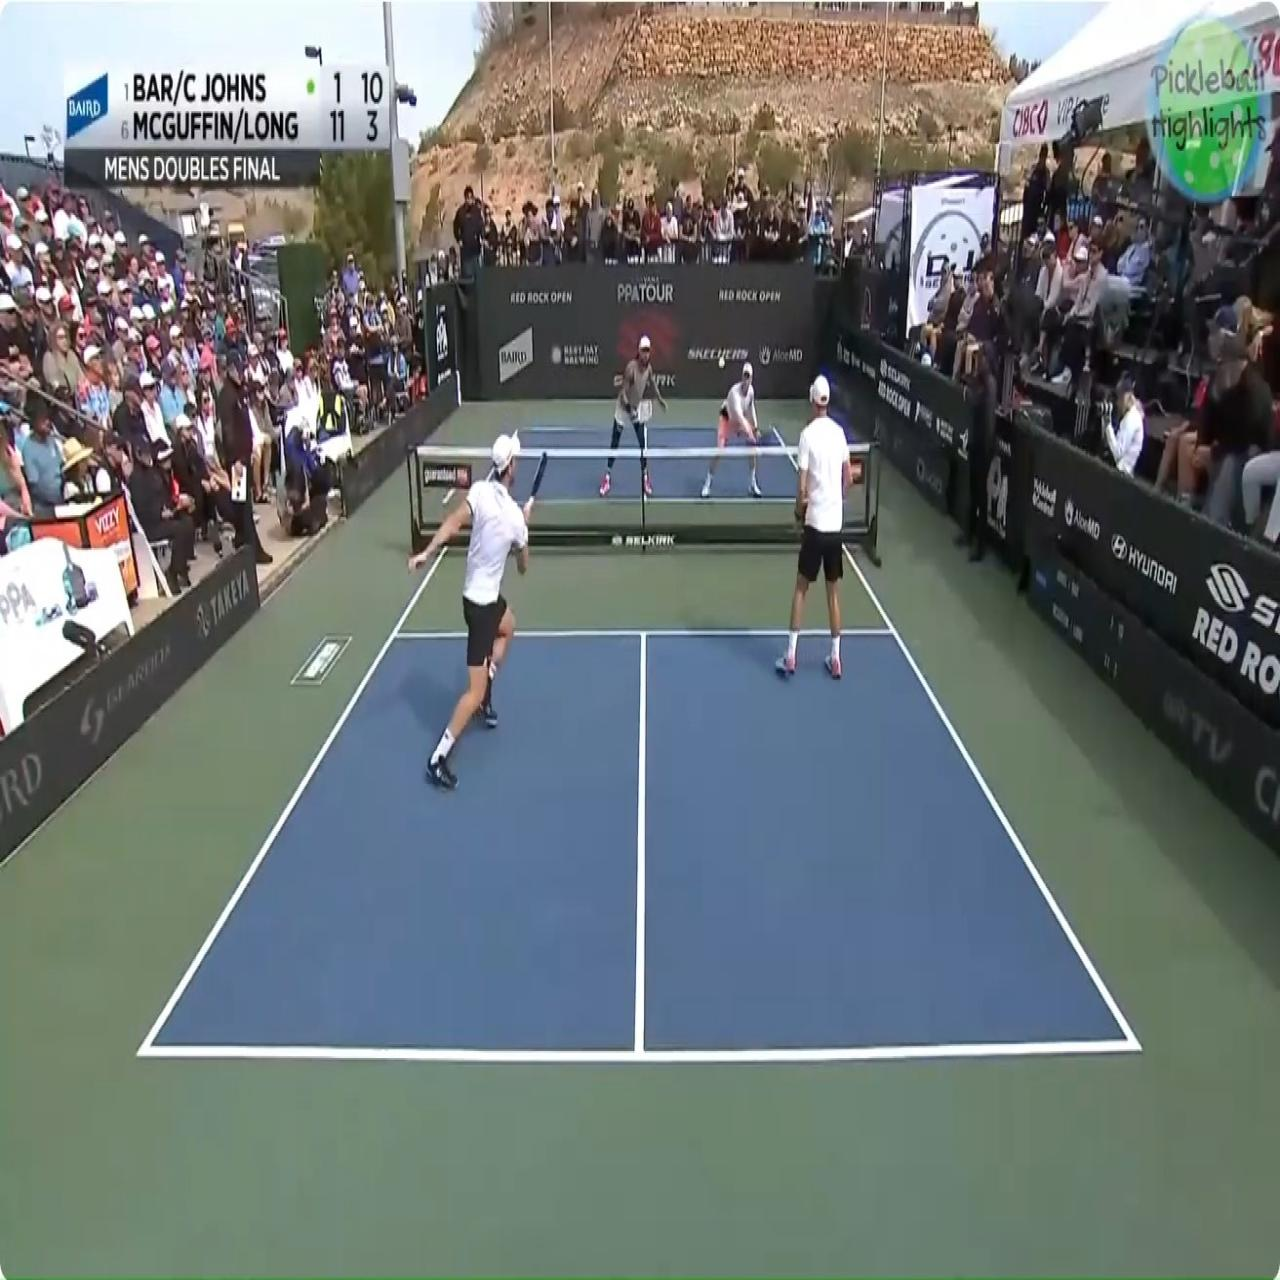pickleball: (719, 355, 726, 369)
